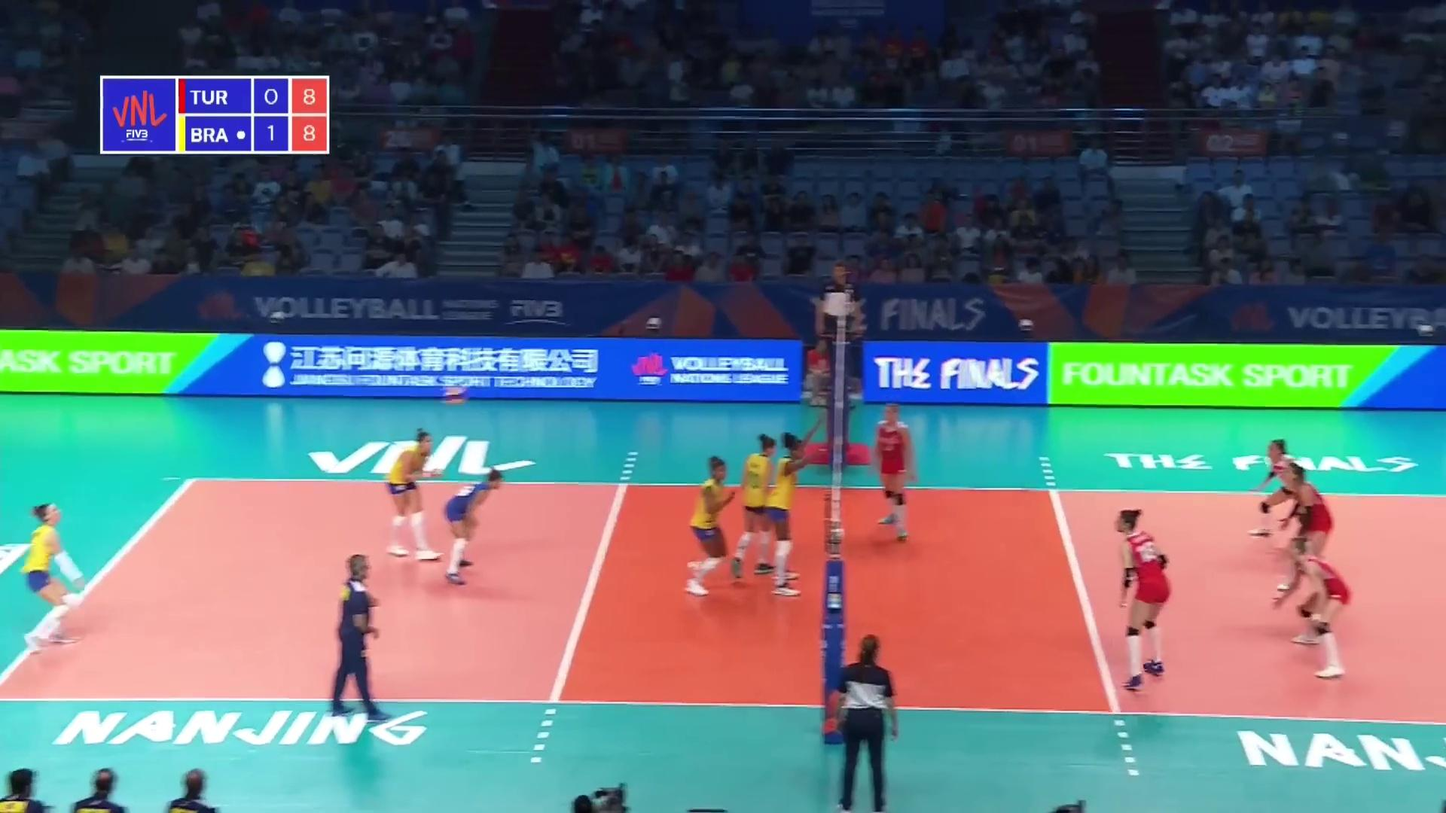player: (1110, 510, 1178, 687), (1276, 537, 1350, 679), (1269, 464, 1332, 614), (1241, 440, 1333, 540), (770, 423, 821, 596), (23, 507, 85, 649), (387, 430, 449, 563), (444, 467, 505, 586), (732, 432, 781, 577), (867, 408, 919, 540), (689, 455, 736, 596)
refree: (820, 638, 897, 811), (814, 264, 864, 391)
